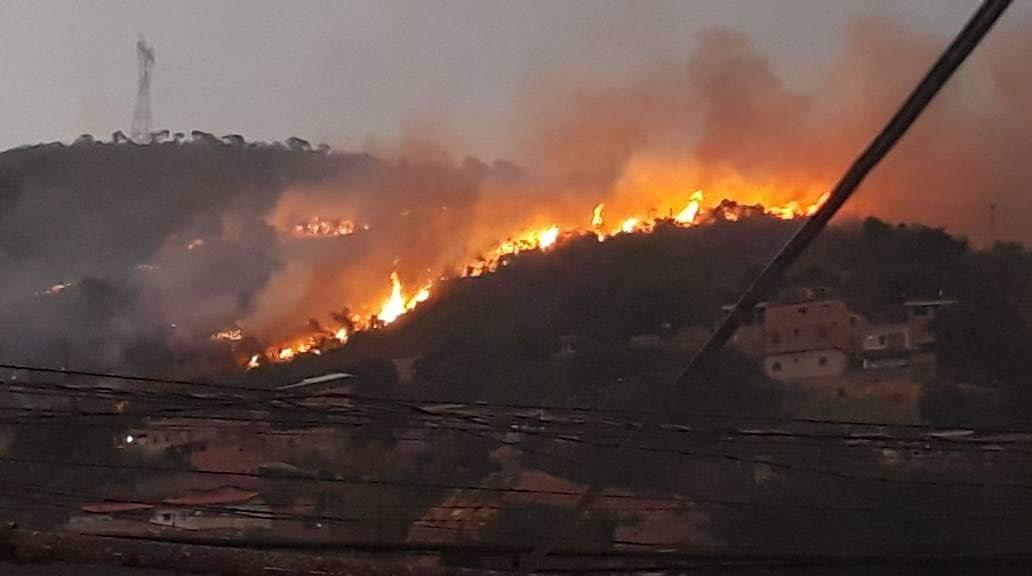fire: (377, 276, 413, 324), (530, 221, 573, 253), (674, 186, 706, 221), (624, 217, 640, 234)
